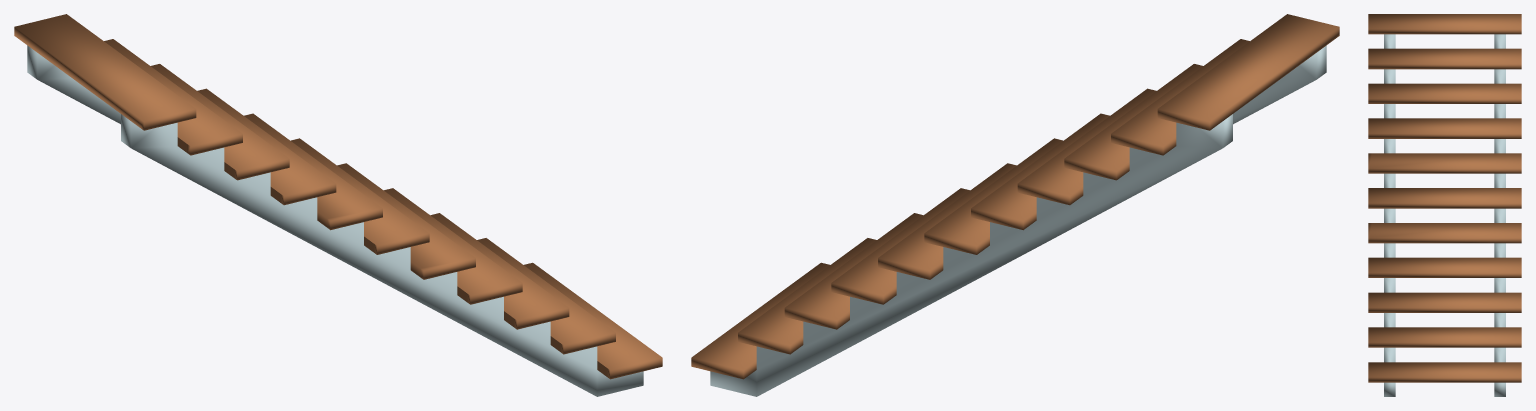
Rendered from Stairs_Open.glb.
The picture shows the model from 3 angles, left to right: view 1: azimuth 30°, elevation 25°; view 2: azimuth 150°, elevation 25°; view 3: azimuth 270°, elevation 25°; orthographic projection. The views are drawn at different scales.
Visible parts, largest first — view 1: stairsOpen; view 2: stairsOpen; view 3: stairsOpen.
Boxes of the visible parts, <box> form: stairsOpen: <box>14,14,662,396</box>; stairsOpen: <box>691,14,1339,396</box>; stairsOpen: <box>1368,14,1521,396</box>.
Bounding box in the file's own units: 1.82 × 1.34 × 0.79.
